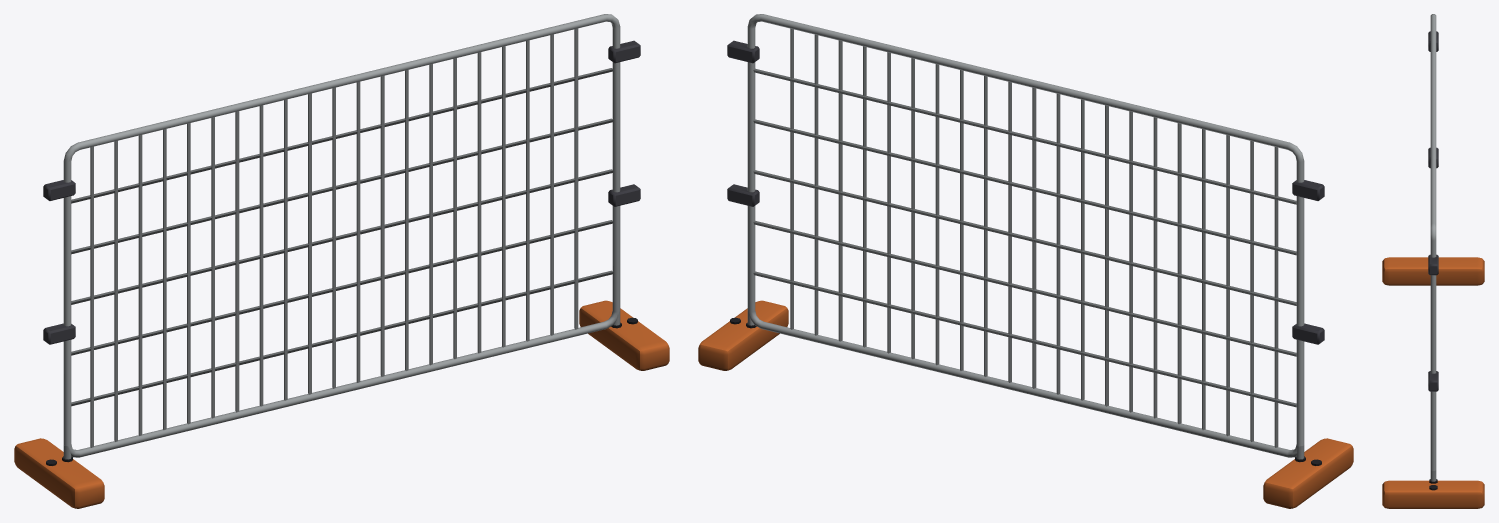
Rendered from SiteFence.fbx.
3 views of the same model, side by side, from view 1: azimuth 30°, elevation 25°; view 2: azimuth 150°, elevation 25°; view 3: azimuth 270°, elevation 25° (orthographic). The views are drawn at different scales.
Parts seen in each view (by area): view 1: SiteFence; view 2: SiteFence; view 3: SiteFence.
Boxes of the visible parts, x1,y1,x2,y2 form: SiteFence: (14, 14, 669, 508); SiteFence: (698, 14, 1353, 508); SiteFence: (1382, 14, 1484, 508).
Size of the model in its own units: 3.7 by 2 by 0.68.
